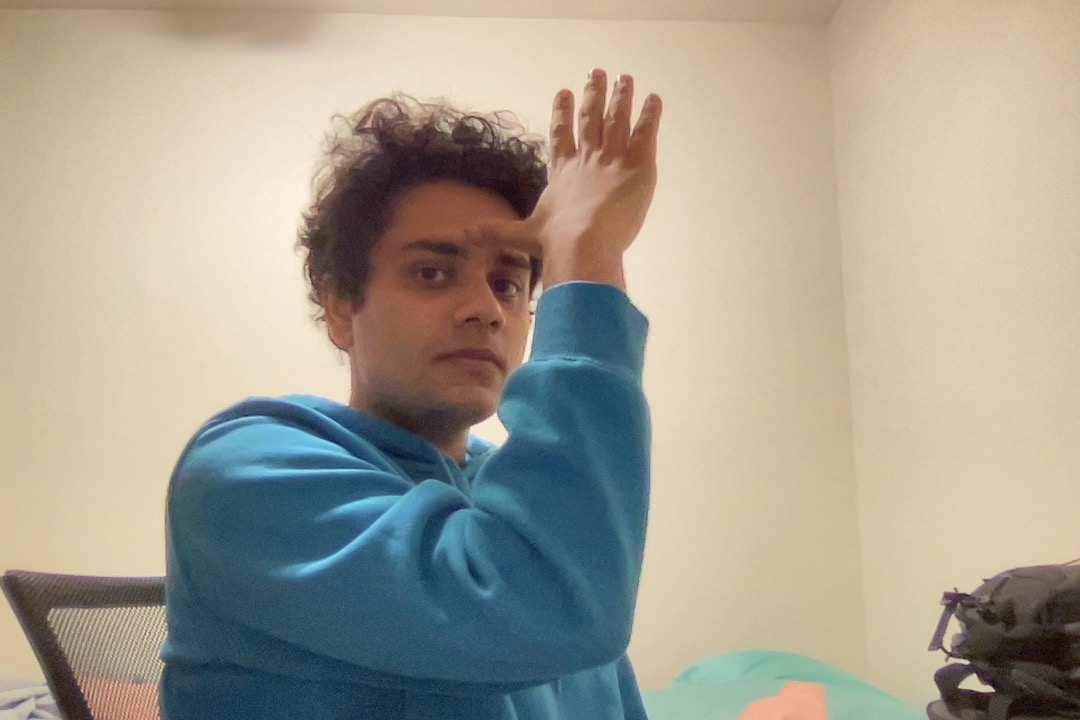Dad: (431, 63, 722, 333)
